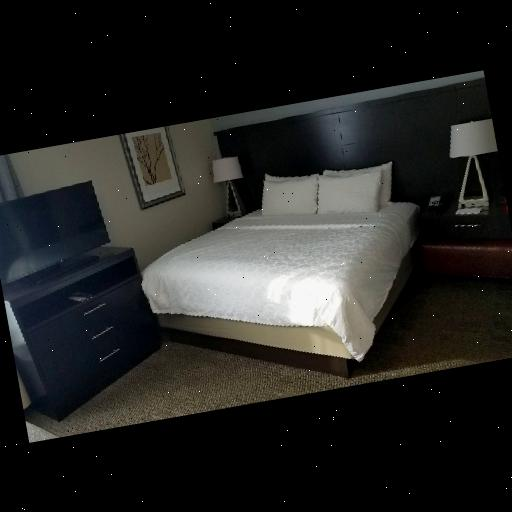clean_bed: (142, 161, 426, 381)
lamp: (437, 116, 508, 220), (202, 152, 250, 217)
organised_pillow: (250, 148, 409, 235)
organized table: (1, 239, 160, 420)
